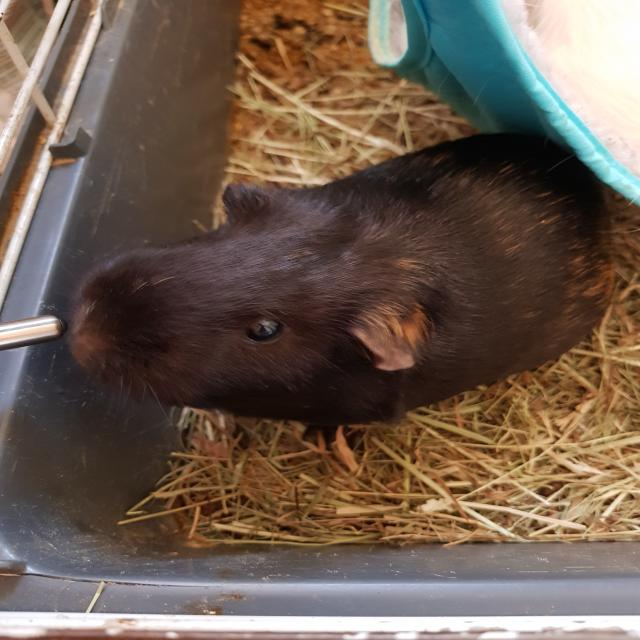guinea pig: (60, 128, 622, 437)
